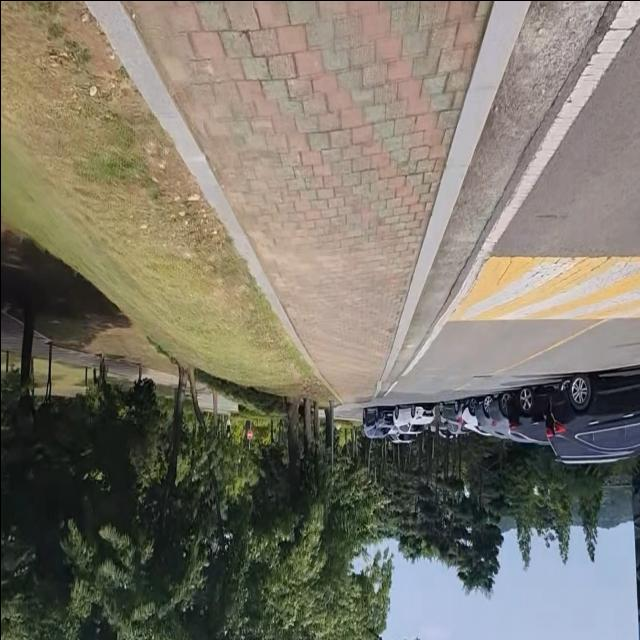obstacle: (541, 365, 640, 471), (433, 380, 550, 447), (361, 404, 437, 445)
road: (374, 0, 640, 404)
sidewalk: (81, 0, 532, 405)
